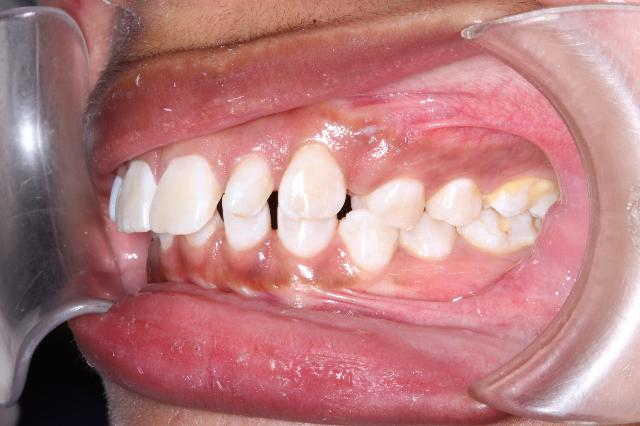canine class II 1/2: (272, 132, 398, 278)
molar class I: (458, 154, 566, 264)
